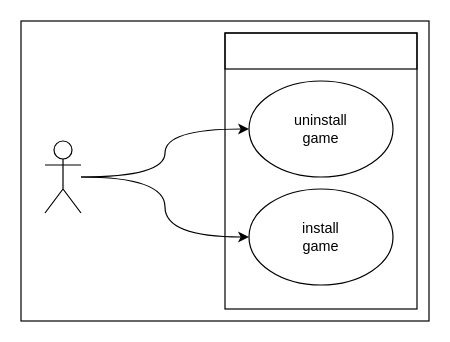
Image size: 450x342. Some labels were removed from this diagram. The centre of each missing label's shape, as x and y in pixels:
Player: (62,176)
System: (320,50)
